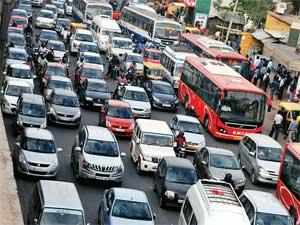bus: (178, 50, 267, 146)
car: (73, 120, 127, 189), (16, 126, 64, 183), (190, 181, 240, 225), (243, 129, 281, 186), (151, 158, 196, 205), (43, 81, 84, 123), (201, 146, 240, 183), (100, 104, 139, 132), (170, 113, 204, 141), (76, 52, 104, 81), (7, 75, 27, 113), (148, 81, 176, 107), (9, 49, 28, 71)
